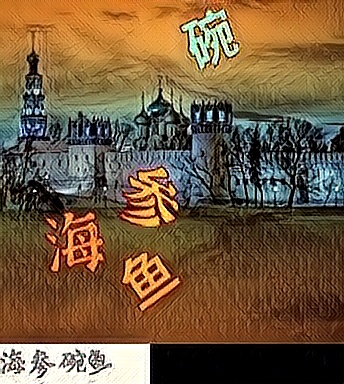B2CE: (119, 165, 183, 231)
BAA3: (45, 208, 109, 274)
CDEB: (177, 4, 241, 70)
D3E3: (118, 246, 182, 312)
